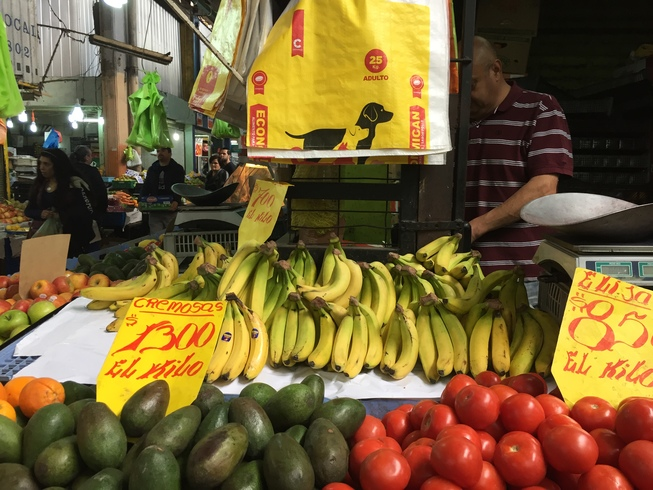precio: (94, 288, 230, 430), (552, 261, 653, 415), (238, 177, 295, 250)
